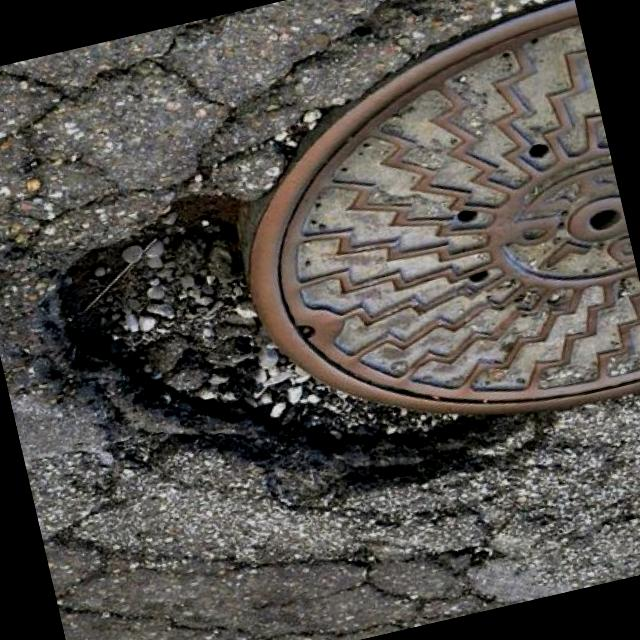pothole: (17, 130, 558, 573)
